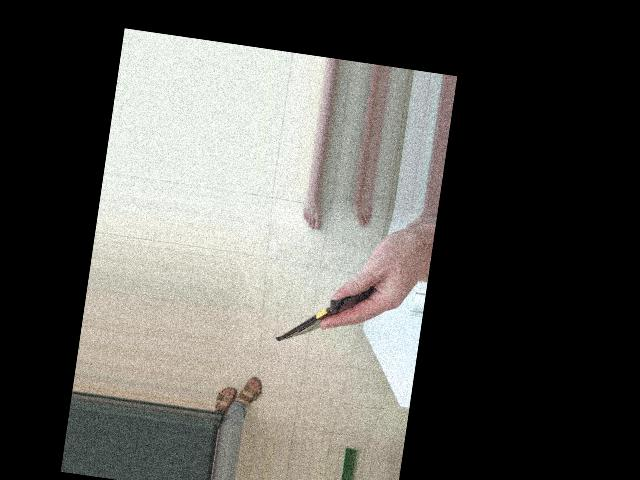chocolate: (230, 283, 322, 394)
